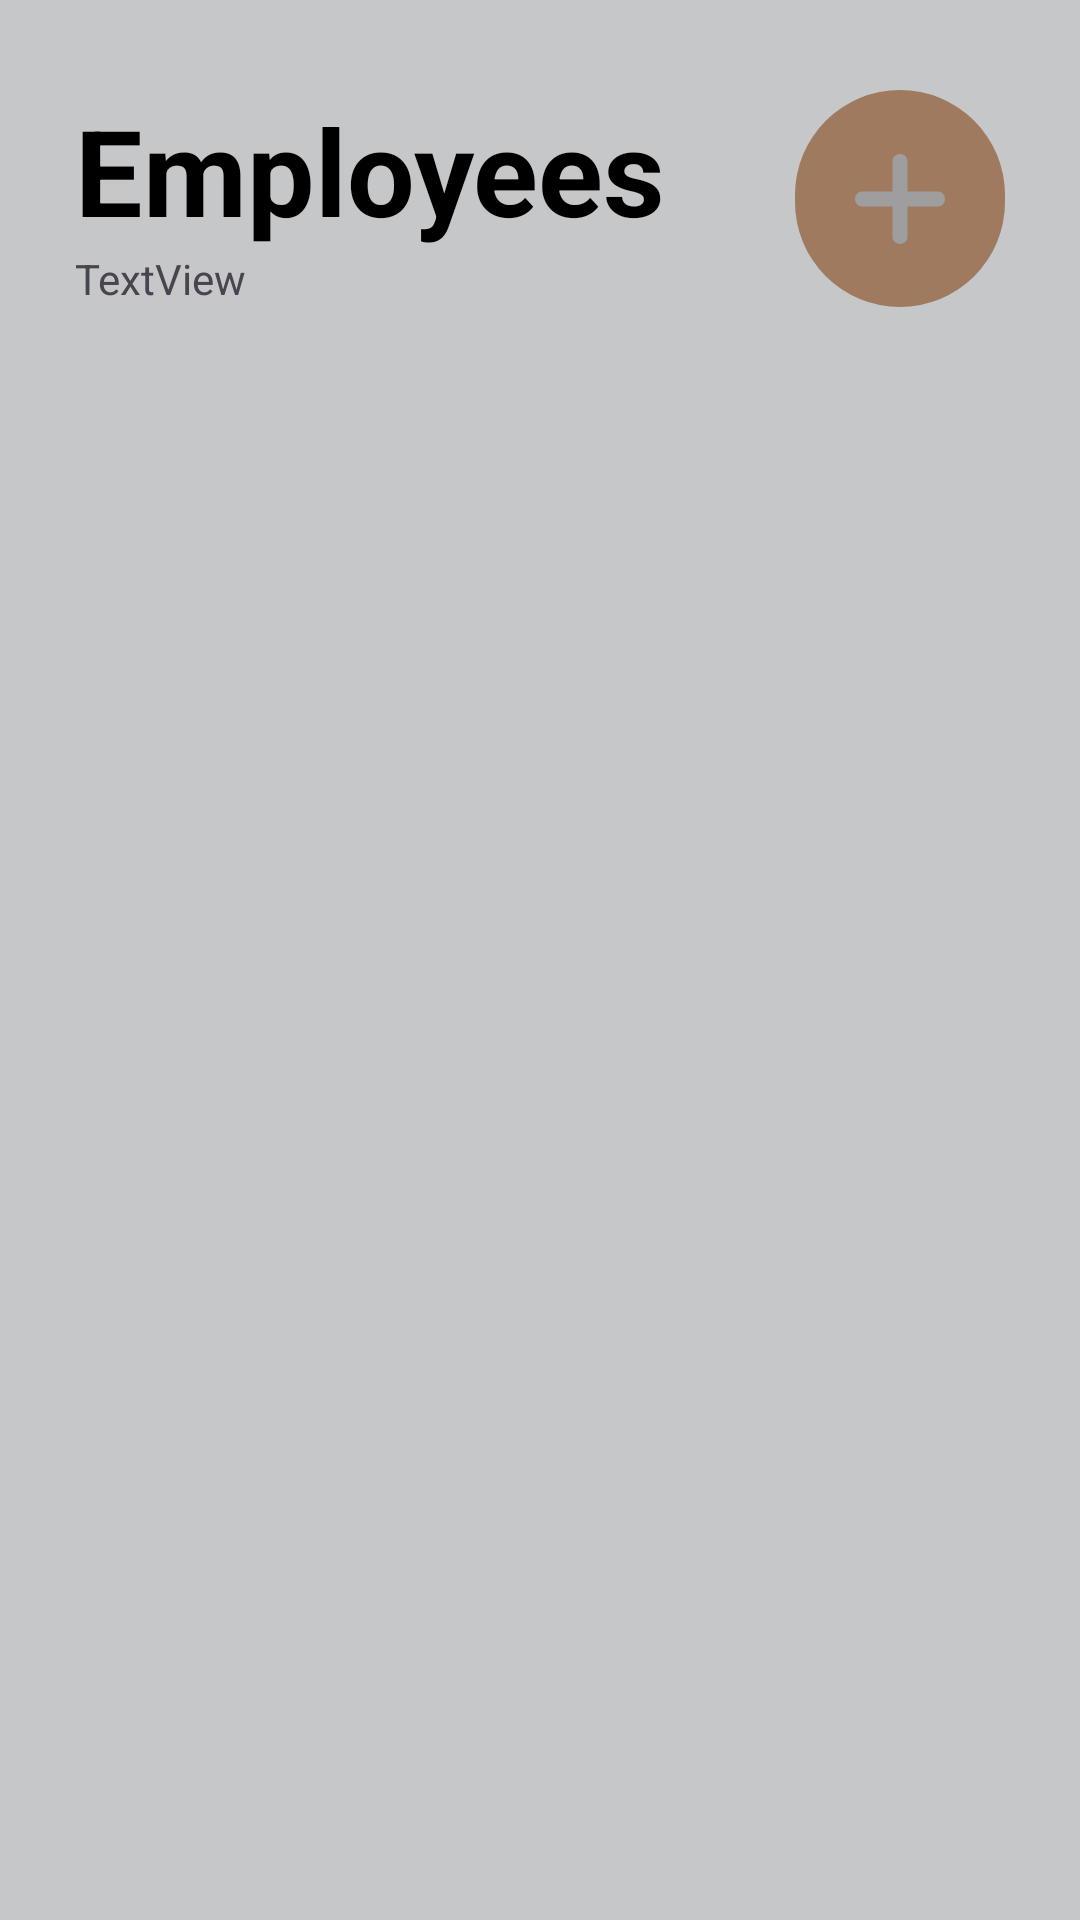

Screen size 1080 × 1920. Icon name, then its box in pixels as {"x1": x1, "y1": y1, "x2": x2, "y2": y2}:
plus round: {"x1": 855, "y1": 154, "x2": 945, "y2": 244}
